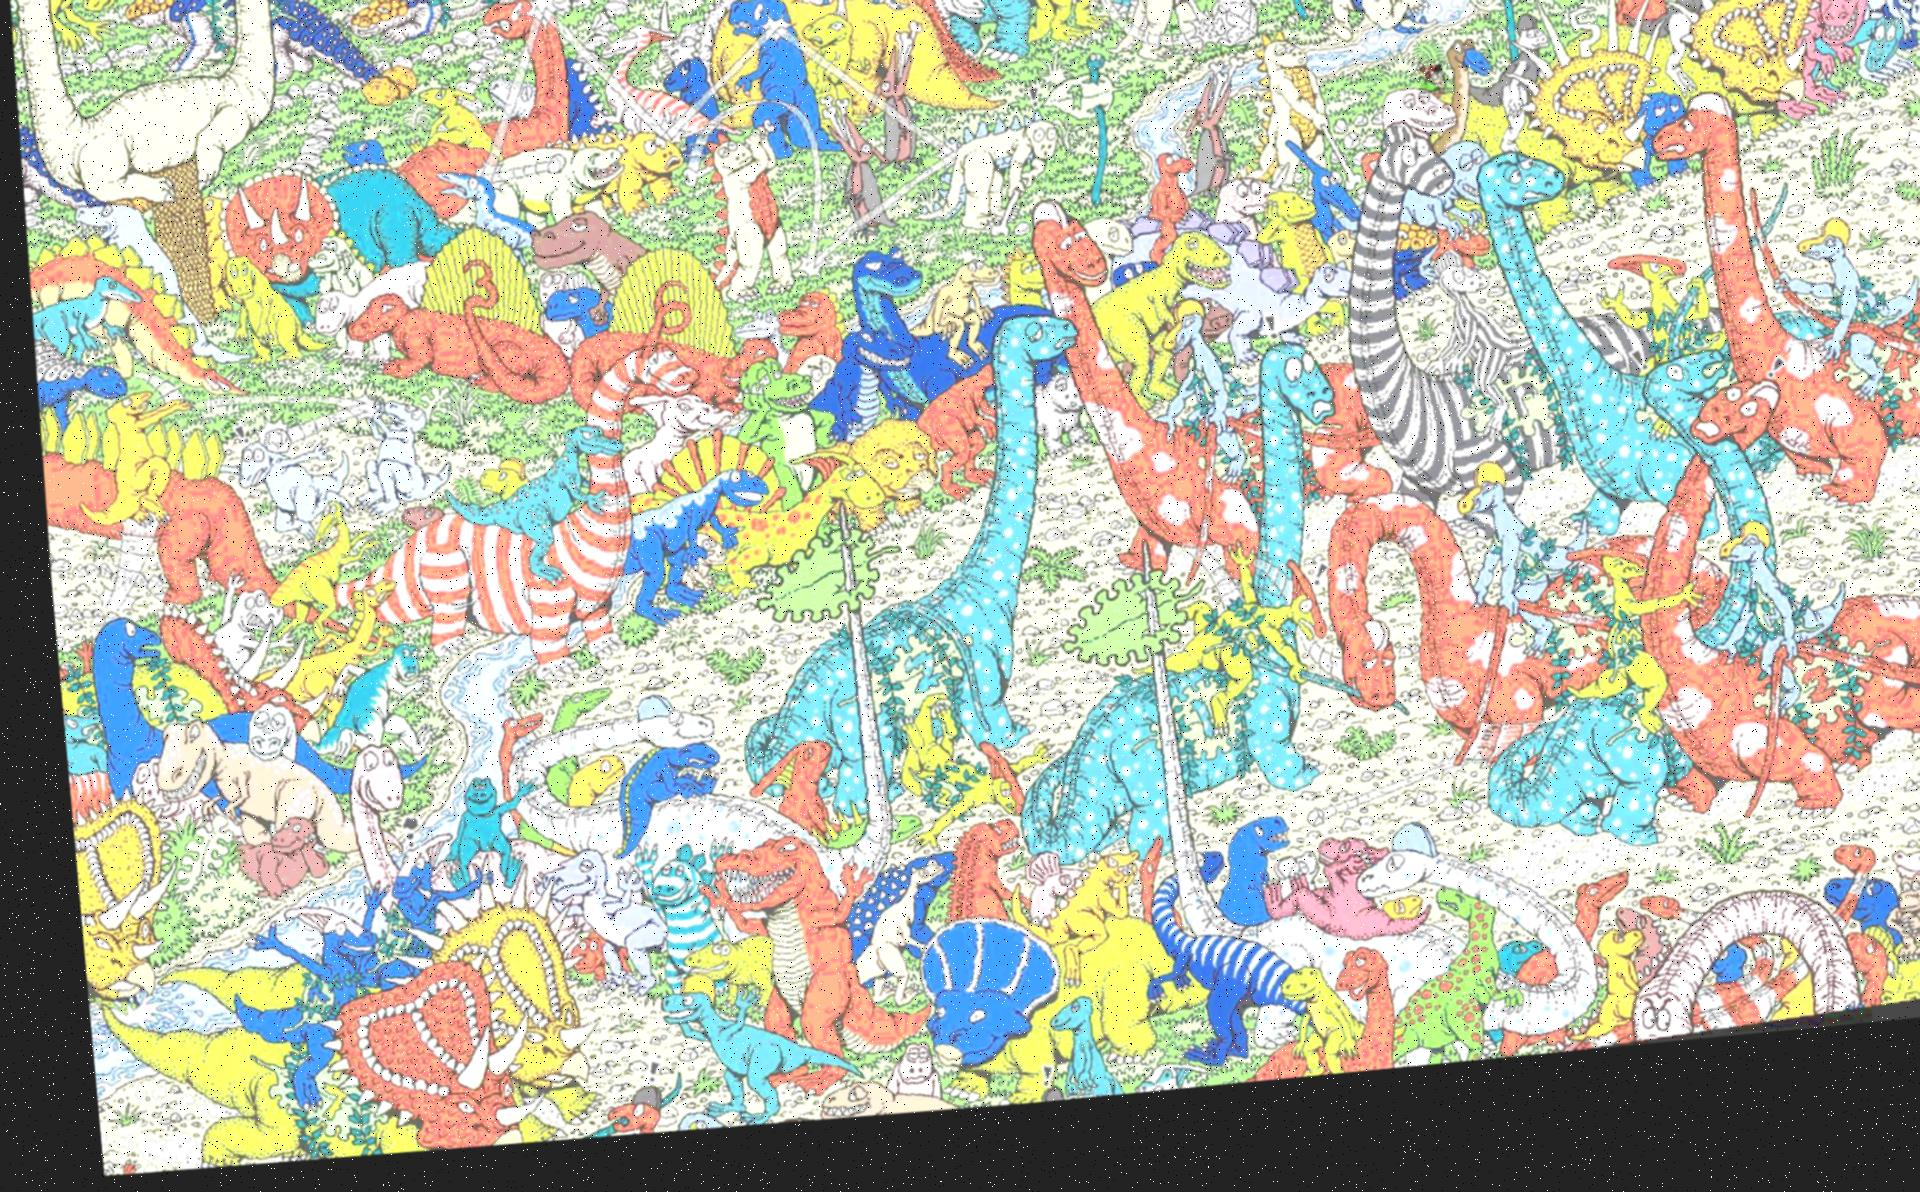waldo: (1413, 92, 1442, 122)
